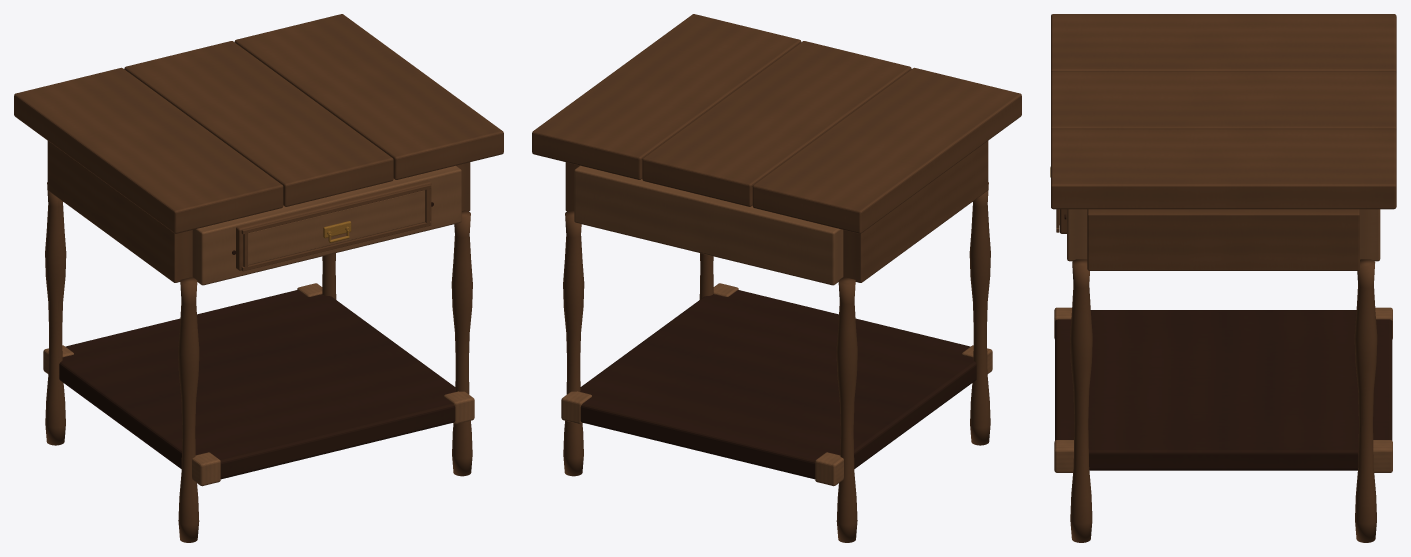
File: asset.glb
The picture shows the model from 3 angles, left to right: view 1: azimuth 30°, elevation 25°; view 2: azimuth 150°, elevation 25°; view 3: azimuth 270°, elevation 25°; orthographic projection. The views are drawn at different scales.
Visible parts, largest first — view 1: MaterialBatch_Room_furniture_quarter-sawn_oak, MaterialBatch_Room_furniture_smoked_walnut, MaterialBatch_Room_furniture_light_oak; view 2: MaterialBatch_Room_furniture_quarter-sawn_oak, MaterialBatch_Room_furniture_smoked_walnut, MaterialBatch_Room_furniture_light_oak; view 3: MaterialBatch_Room_furniture_quarter-sawn_oak, MaterialBatch_Room_furniture_smoked_walnut, MaterialBatch_Room_furniture_light_oak.
Boxes of the visible parts, x1,y1,x2,y2 form: MaterialBatch_Room_furniture_quarter-sawn_oak: [14, 14, 503, 542]; MaterialBatch_Room_furniture_smoked_walnut: [59, 202, 455, 479]; MaterialBatch_Room_furniture_light_oak: [43, 165, 474, 486]; MaterialBatch_Room_furniture_quarter-sawn_oak: [532, 14, 1021, 542]; MaterialBatch_Room_furniture_smoked_walnut: [580, 290, 976, 479]; MaterialBatch_Room_furniture_light_oak: [561, 165, 992, 486]; MaterialBatch_Room_furniture_quarter-sawn_oak: [1051, 14, 1396, 542]; MaterialBatch_Room_furniture_smoked_walnut: [1055, 214, 1392, 470]; MaterialBatch_Room_furniture_light_oak: [1054, 209, 1392, 472].
Size of the model in its own units: 20 by 20 by 17.02.
Materials: 4 (4 with a texture image).
